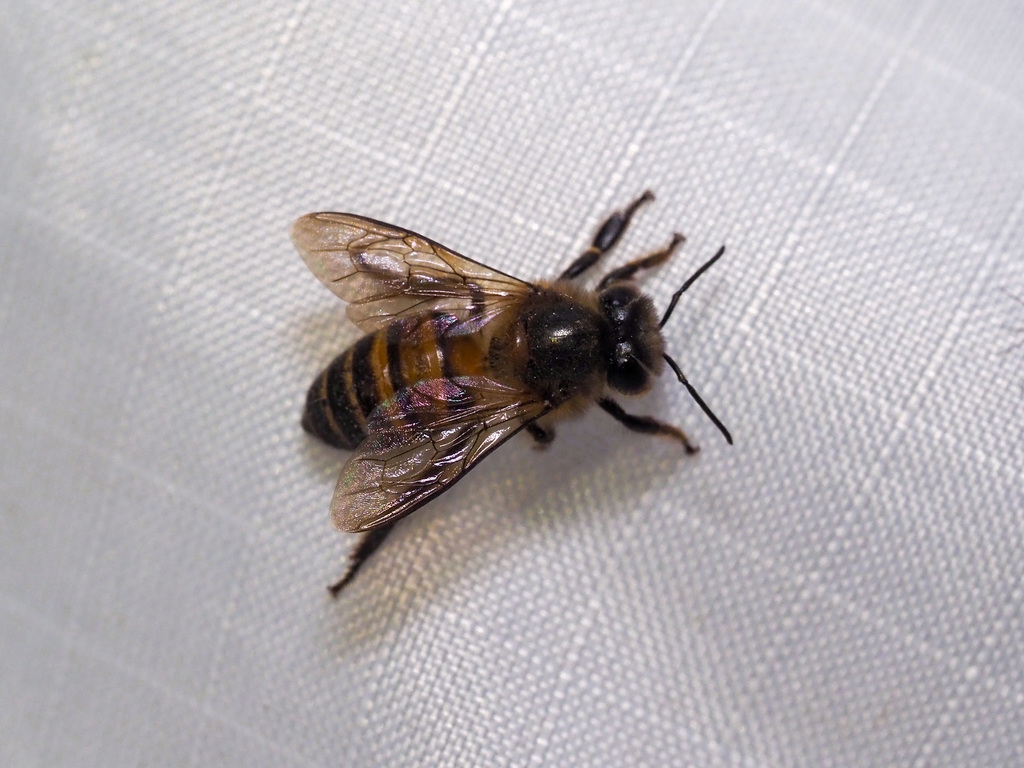honeybee: (285, 189, 734, 596)
